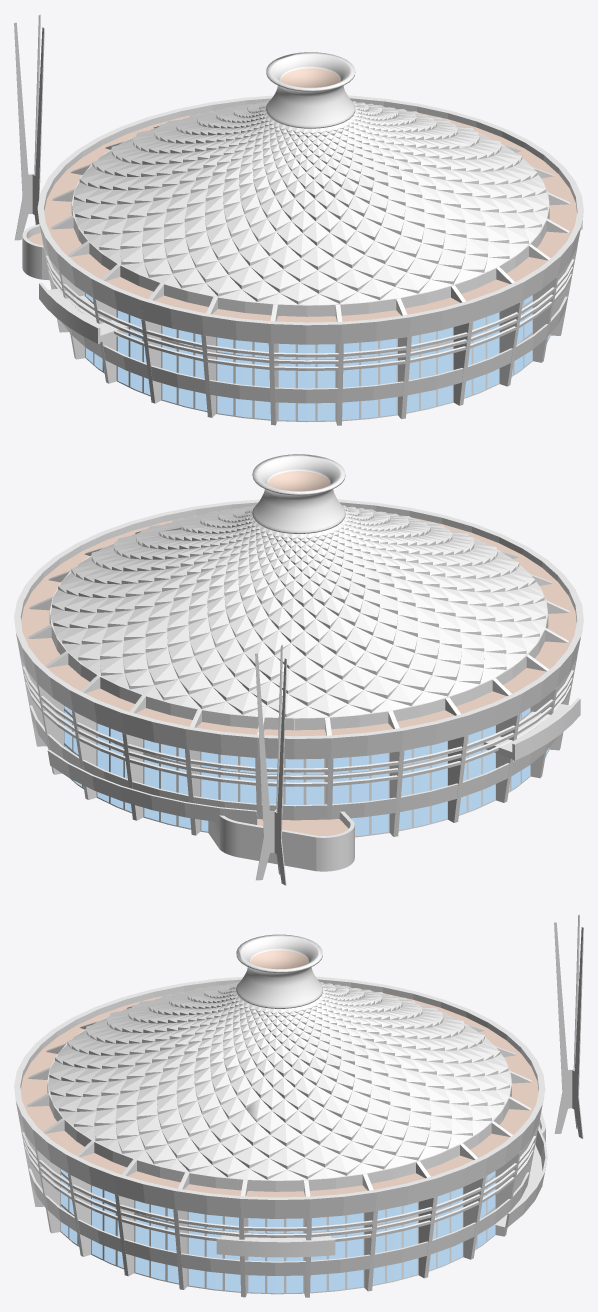
Rendered from circus5.glb.
The picture shows the model from 3 angles, top to bottom: view 1: azimuth 30°, elevation 25°; view 2: azimuth 150°, elevation 25°; view 3: azimuth 270°, elevation 25°; orthographic projection. The views are drawn at different scales.
Parts seen in each view (by area): view 1: 164551, 168676, 168677, 168678, 168675, Компонент#1.009, 168679, Компонент#1.031, 168674, Компонент#1.030, Компонент#1.010, 168680 (+47 smaller); view 2: 164551, 154982, 168665, 168666, Компонент#1.017, 168699, 168667, 168698, 154913, Компонент#1.016, 168668, Компонент#5.005 (+47 smaller); view 3: 164551, 168689, 168688, 168690, 168687, Компонент#1.023, Компонент#1.001, 168691, 168686, Компонент#1, 168692, 168685 (+48 smaller).
Part boxes in pixels (x1,y1,x2,y2): 164551: [266, 52, 355, 128]; 168676: [258, 128, 318, 304]; 168677: [299, 128, 357, 305]; 168678: [316, 127, 394, 303]; 168675: [218, 127, 303, 302]; Компонент#1.009: [368, 298, 410, 418]; 168679: [324, 126, 429, 300]; Компонент#1.031: [202, 296, 245, 418]; 168674: [182, 126, 295, 296]; Компонент#1.030: [270, 304, 306, 425]; Компонент#1.010: [306, 304, 341, 425]; 168680: [332, 124, 461, 293]; 164551: [252, 454, 345, 533]; 154982: [208, 811, 354, 871]; 168665: [286, 533, 347, 718]; 168666: [305, 533, 386, 716]; Компонент#1.017: [359, 711, 403, 836]; 168699: [202, 533, 291, 714]; 168667: [313, 531, 423, 712]; 168698: [164, 531, 282, 709]; 154913: [244, 533, 307, 717]; Компонент#1.016: [419, 697, 468, 826]; 168668: [321, 529, 455, 705]; Компонент#5.005: [184, 709, 230, 835]; 164551: [236, 934, 322, 1008]; 168689: [268, 1008, 324, 1180]; 168688: [228, 1008, 286, 1179]; 168690: [285, 1008, 360, 1179]; 168687: [190, 1008, 272, 1177]; Компонент#1.023: [174, 1172, 215, 1290]; Компонент#1.001: [336, 1174, 377, 1291]; 168691: [293, 1006, 394, 1175]; 168686: [154, 1006, 264, 1172]; Компонент#1: [392, 1161, 437, 1281]; 168692: [300, 1005, 425, 1169]; 168685: [123, 1005, 257, 1164].
Bounding box in the file's own units: 70.72 × 34.08 × 72.91.
